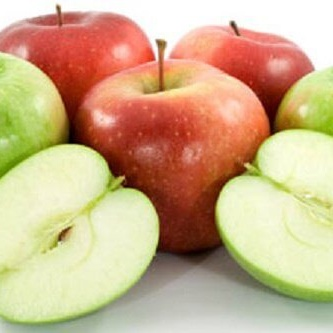apple: (68, 60, 273, 253), (1, 148, 163, 322), (222, 126, 333, 304), (1, 11, 157, 117), (172, 20, 317, 119), (1, 53, 73, 183), (277, 67, 333, 137)
